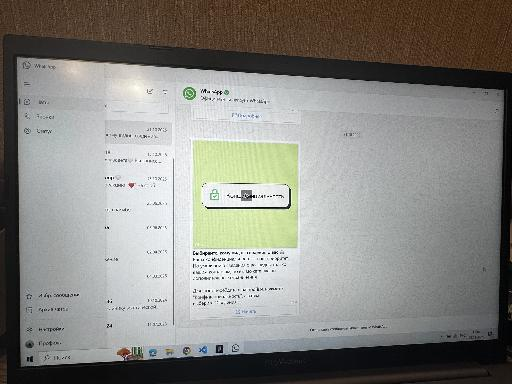whatsapp: (18, 60, 497, 343)
